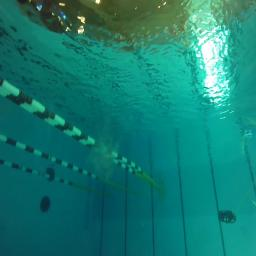Side: (218, 209, 236, 223)
